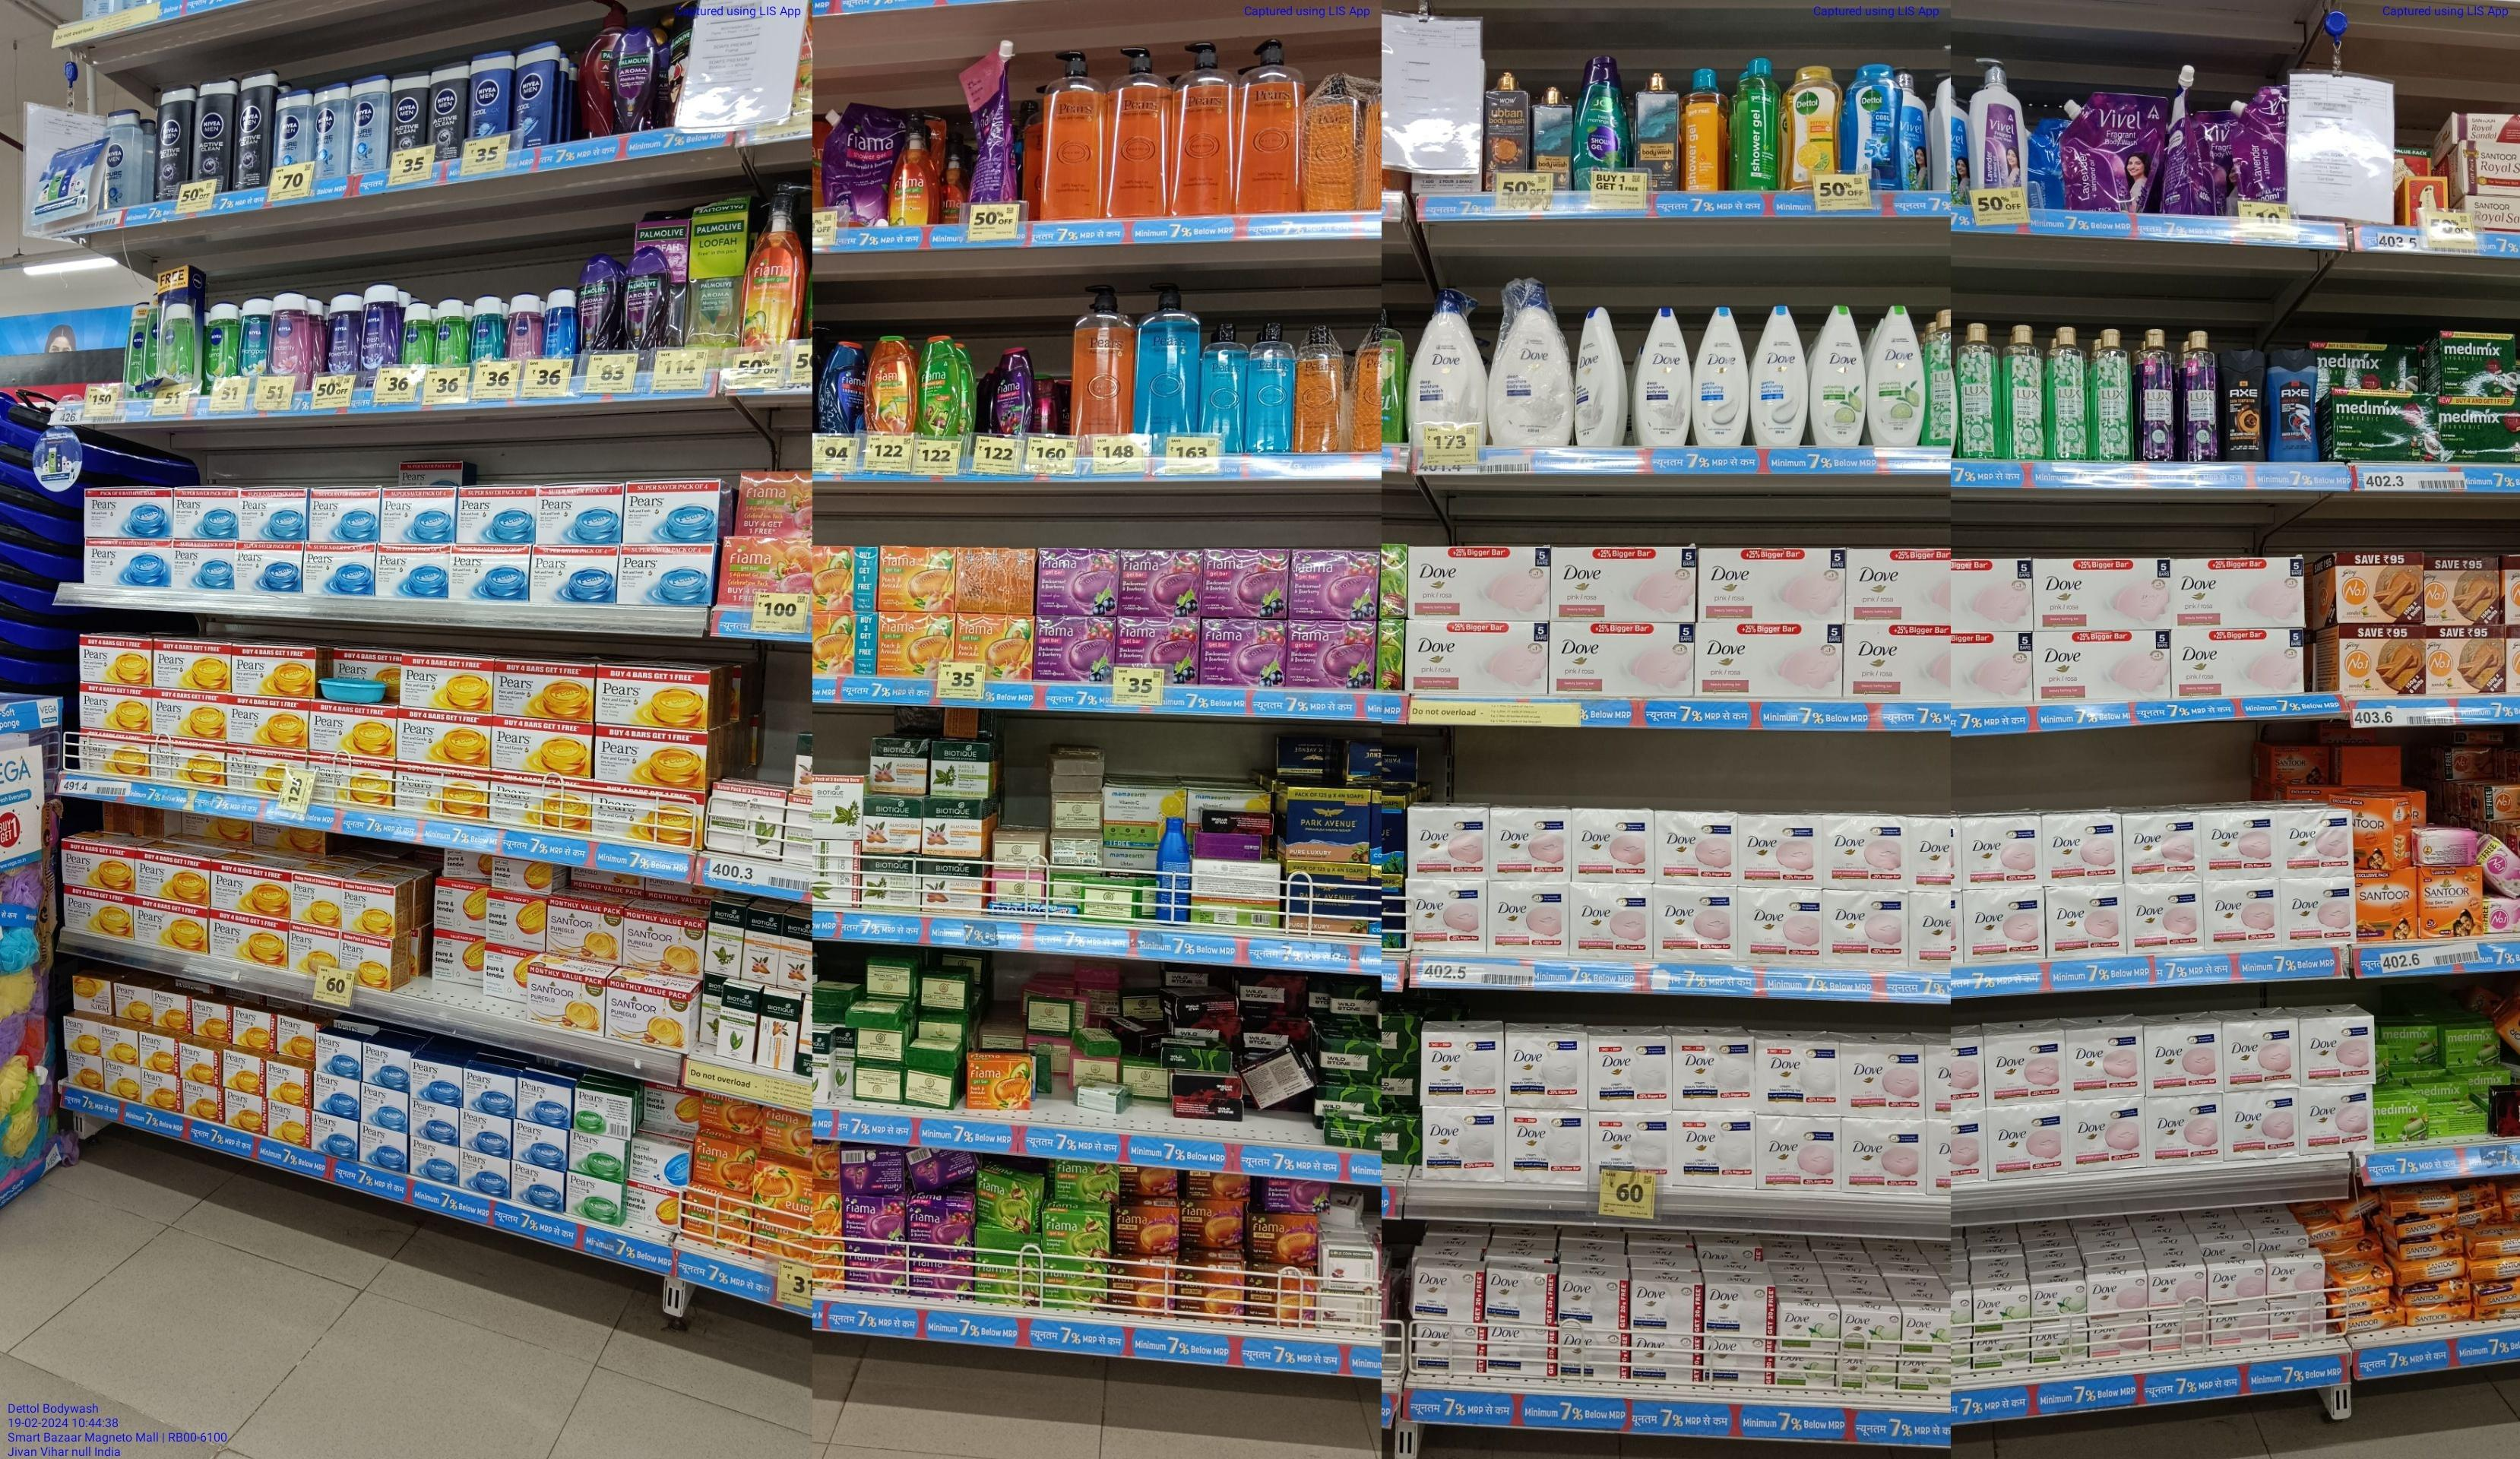Dettol_Bodywash_Cool: (1844, 63, 1903, 174)
Dettol_Bodywash_Refresh: (1785, 66, 1841, 174)
Dove_Deep_Moisture_Body_Wash_250ML: (1633, 306, 1688, 446), (1577, 306, 1626, 445)
Dove_Gentle_Exfoliating_Body_Wash_250ML: (1749, 304, 1806, 446), (1692, 306, 1745, 446)
Dove_Refreshing_Body_Wash_250ML: (1808, 304, 1865, 445), (1869, 306, 1926, 445)
Fiama_Shower_Gel_Lemongrass_and_Jojoba_250ML: (917, 335, 959, 438)
Fiama_Shower_Gel_Peach_and_Avocado_250ML: (867, 332, 914, 432)
Joy_Shower_Gel_Mint_and_Eucalyptus_250ML: (1573, 57, 1631, 172)
Lux_Black_Orchid_Scent_and_Juniper_Oil_Body_Wash_245ML: (2180, 330, 2221, 460), (2138, 325, 2176, 460)
Lux_Body_Wash_Skin_Detox_Freesia_Scent_and_Alove_Vera_245ML: (1956, 320, 1999, 459), (2046, 327, 2089, 459), (2091, 327, 2133, 460), (2004, 321, 2042, 459)
Nivea_Shower_Gel_Frangipani_and_Oil_250ML: (469, 294, 504, 360)
Nivea_Shower_Gel_Fresh_Powerfruit_250ML: (361, 283, 399, 368), (327, 295, 358, 372)
Nivea_Shower_Gel_Lemon_and_Oil_250ML: (205, 304, 238, 379), (434, 297, 465, 365), (403, 300, 429, 363)
Nivea_Shower_Gel_Waterlily_and_Oil_250ML: (267, 294, 309, 372), (507, 292, 544, 358)
Palmolive_Aroma_Relax_250ML: (622, 248, 672, 349), (611, 26, 653, 130), (578, 254, 618, 354)
Pears_Pure_Glycerin_and_Mint_Extracts_Body_Wash_250ML: (1247, 323, 1294, 450), (1198, 327, 1244, 432)
